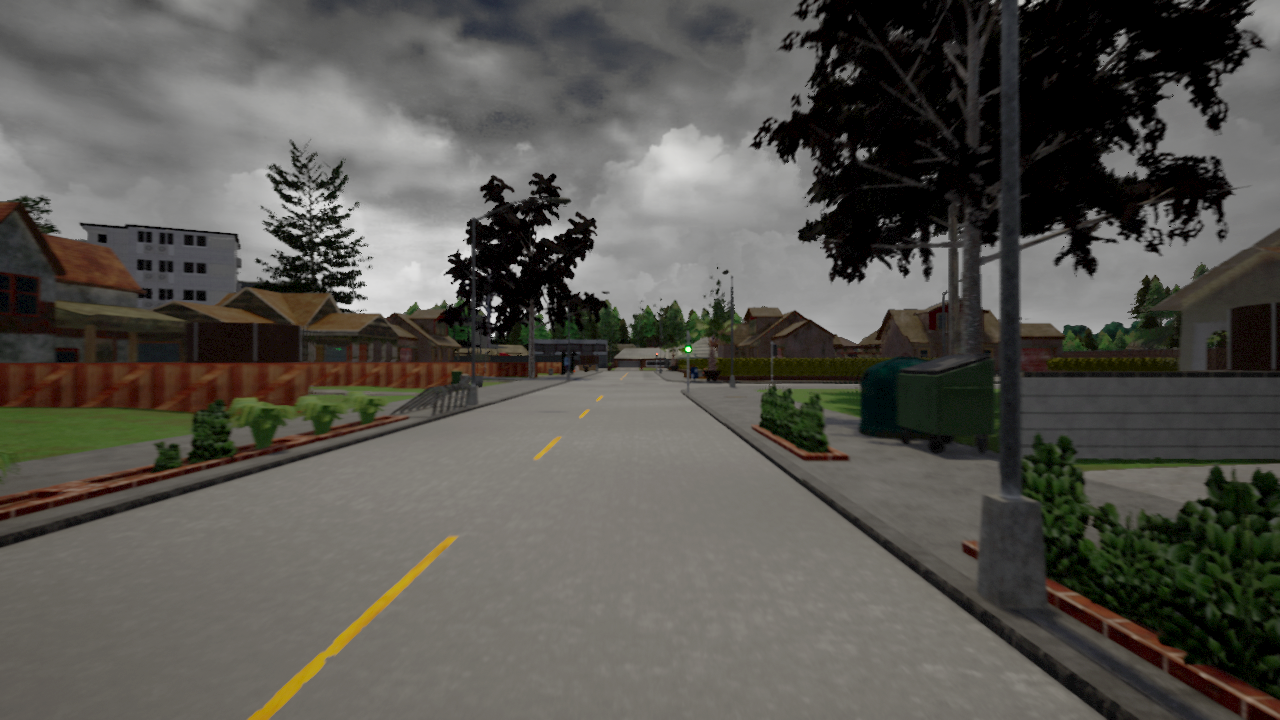green: (683, 335, 692, 354)
